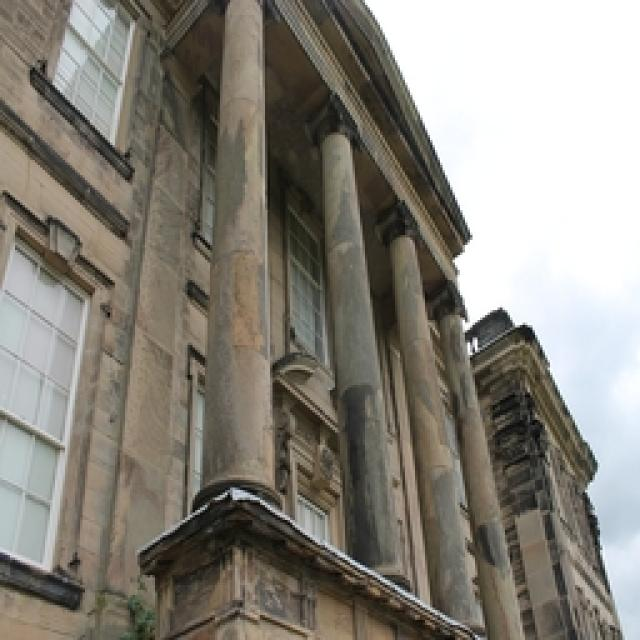Abbey: (2, 1, 620, 640)
